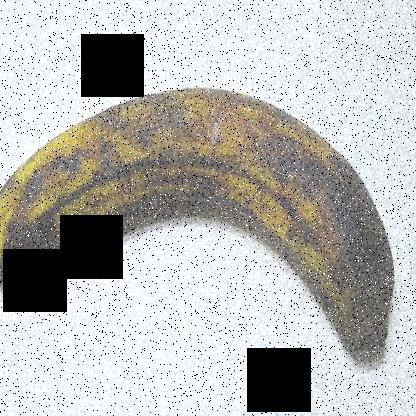overripe: (0, 52, 408, 389)
